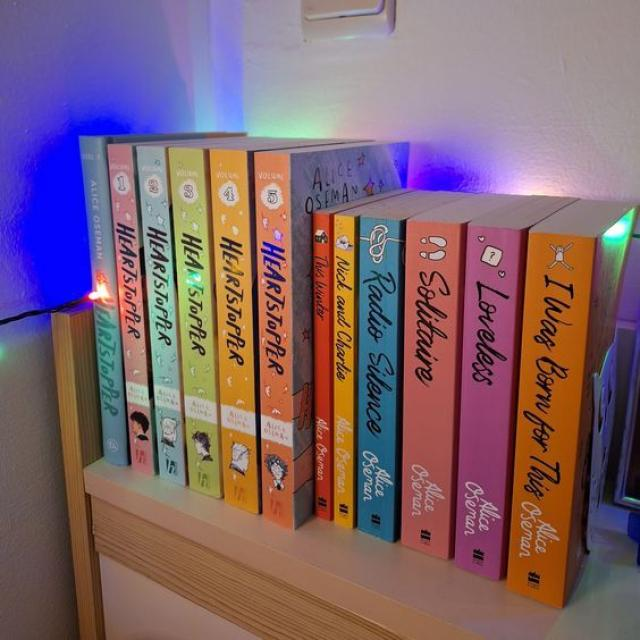book: (507, 232, 597, 612), (457, 224, 522, 583), (401, 218, 461, 557), (207, 150, 260, 516), (167, 149, 222, 500), (136, 148, 186, 486), (106, 142, 156, 472), (80, 135, 129, 466), (256, 152, 296, 529), (355, 216, 397, 544), (332, 215, 355, 525), (313, 210, 331, 520)
